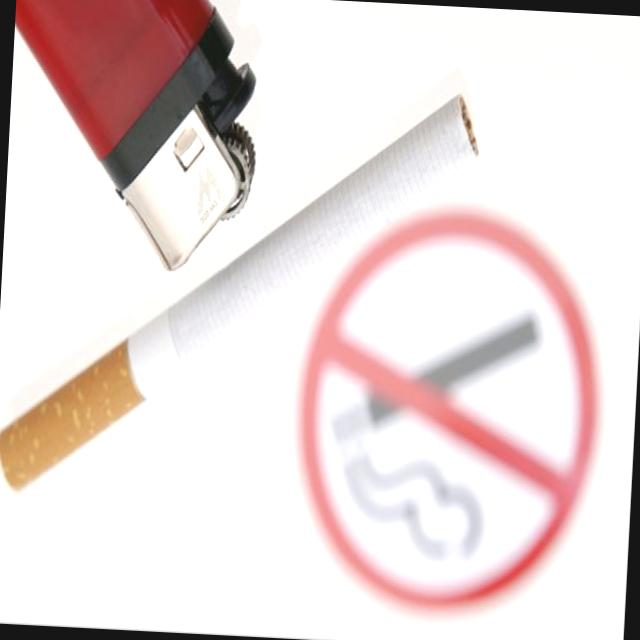smoke: (0, 72, 514, 525)
